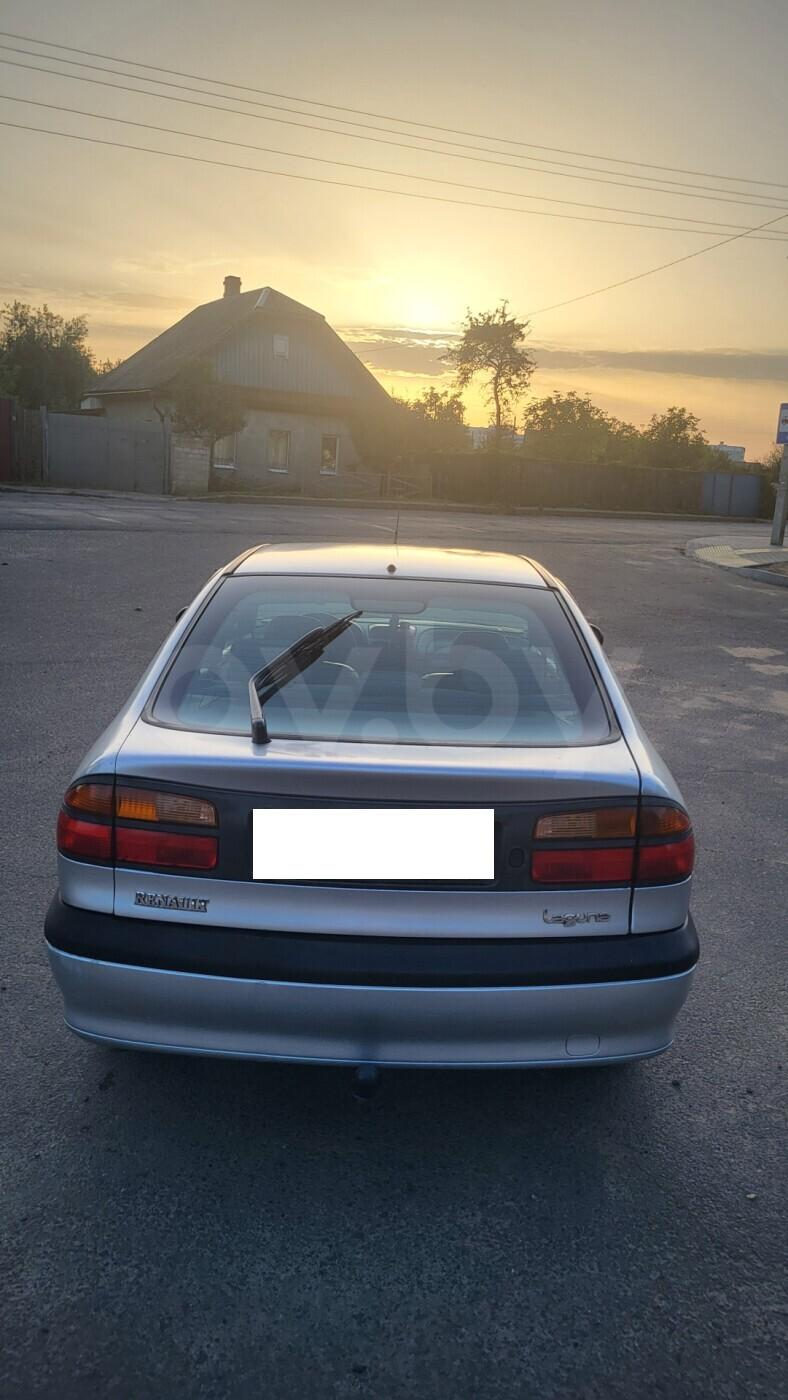Laguna_1998-2001: (40, 534, 708, 1106)
